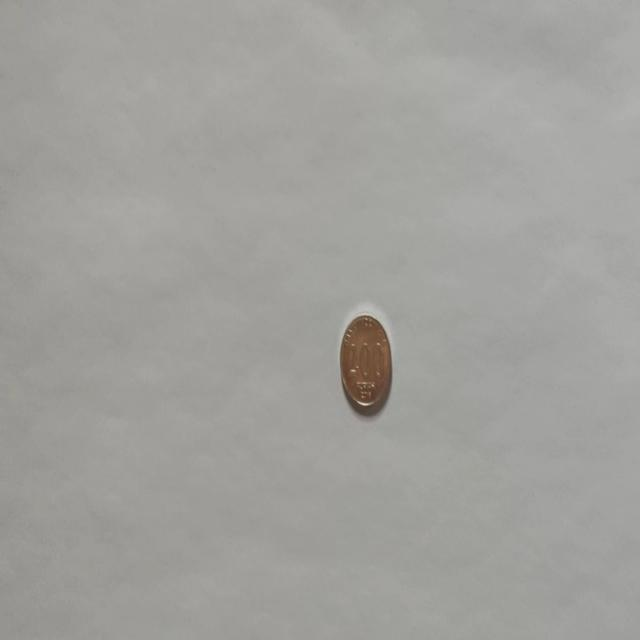dua ratus rupiah: (338, 311, 392, 415)
